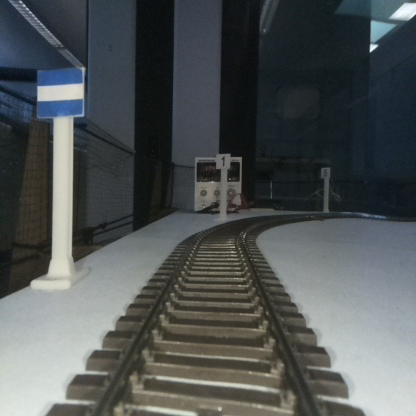start: (37, 66, 84, 290)
white-info-1: (216, 153, 230, 221)
white-info-5: (321, 166, 330, 210)
